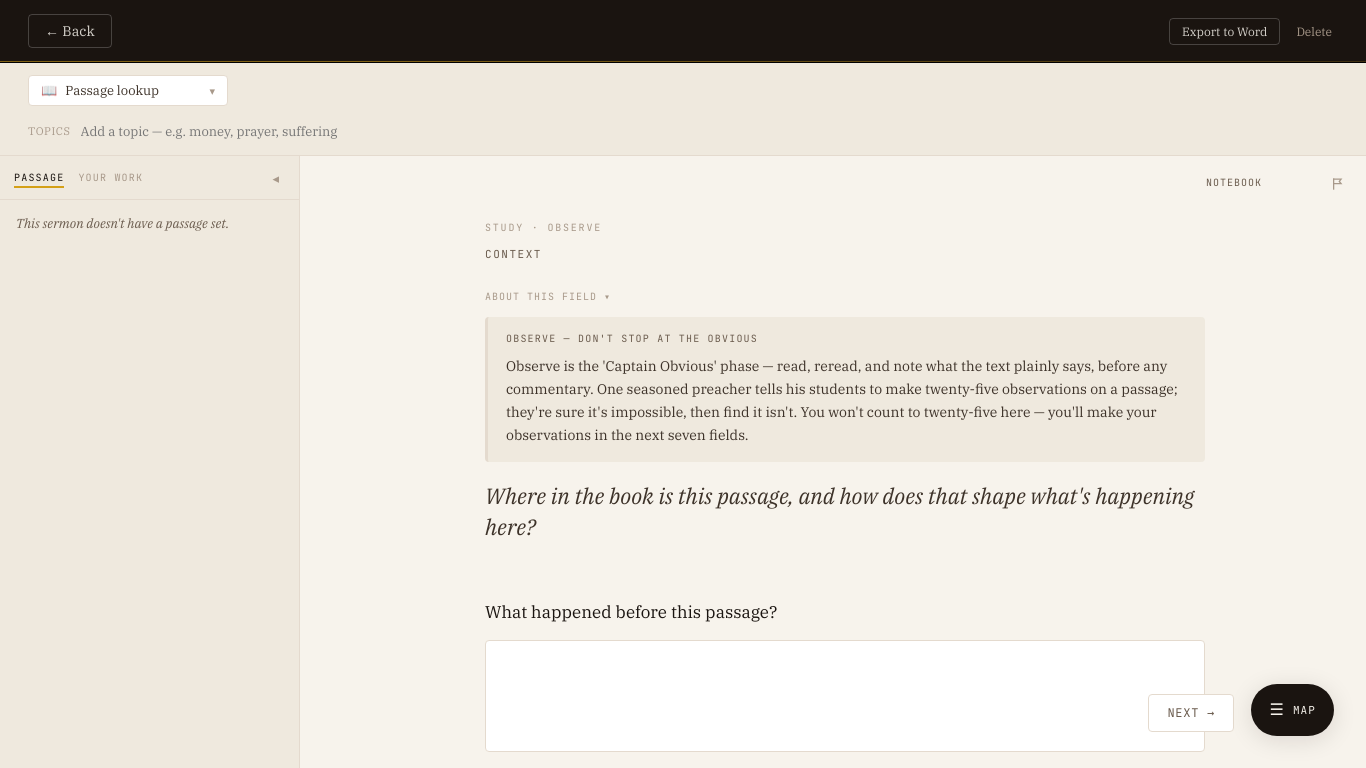
Test: Process Contract #3: movement is visible at thresholds, silent at within-stage steps › within-stage chevron-next produces NO threshold overlay and NO data-testid='movement-event'
What coordinates should you click on to do the following:
click the button with class "sws-forward"
I would click on:
 (1191, 713)
Its box is x1=1148 y1=694 x2=1234 y2=732.
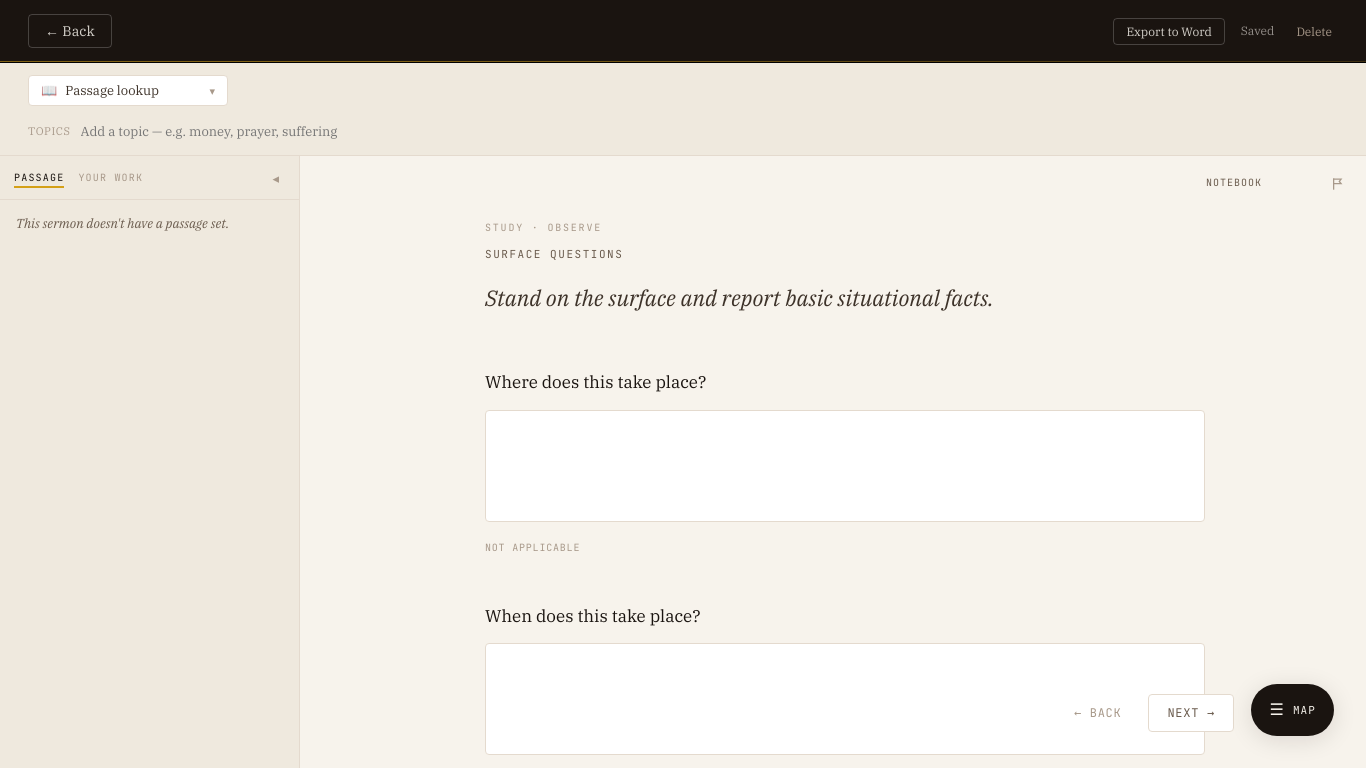
Expected: the text "Surface Questions" is shown, x1=485 y1=247 x2=623 y2=261
